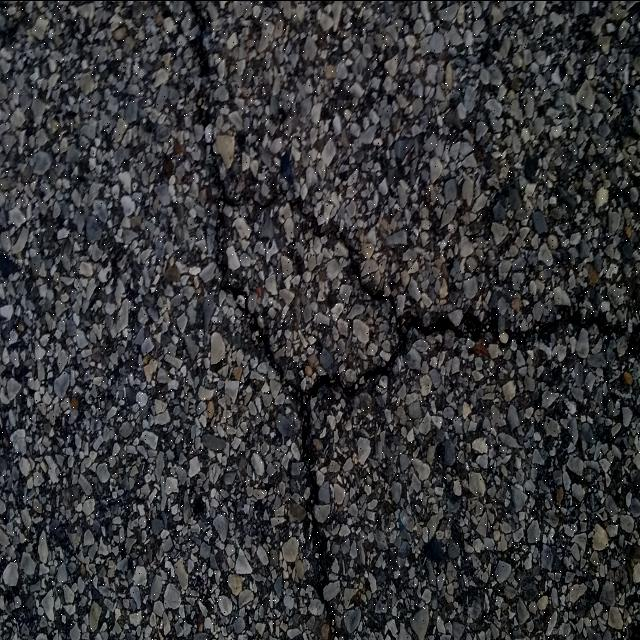Crack: (186, 0, 640, 640)
